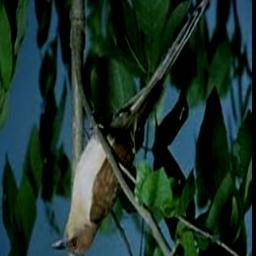Cuckoo: (47, 0, 214, 256)
